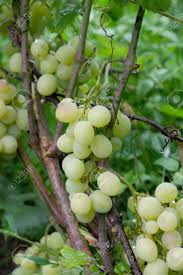grapes: (58, 100, 121, 217), (137, 194, 183, 268), (28, 35, 79, 92)
